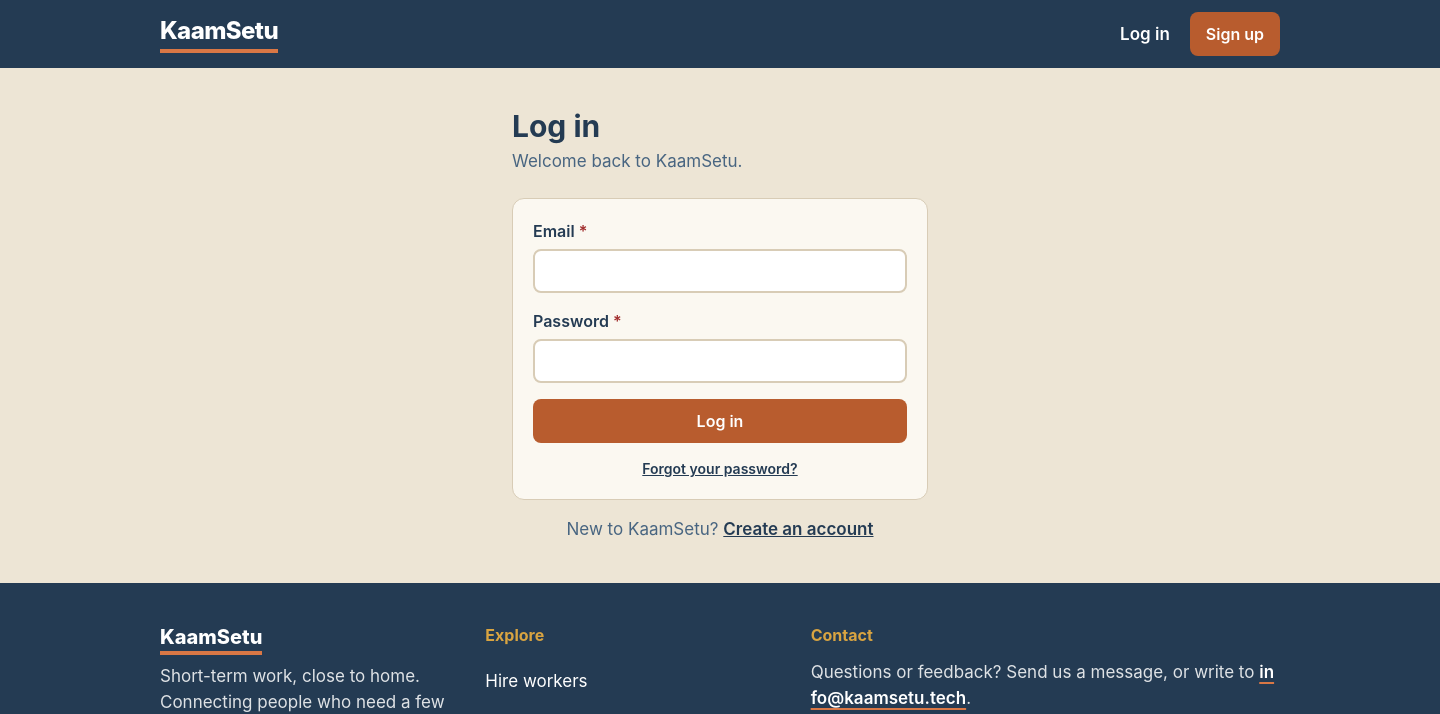
Test: login › validates before calling Supabase
This screenshot has width=1440, height=714.
Click the button "Log in".
click(720, 421)  # box [533,399,907,443]
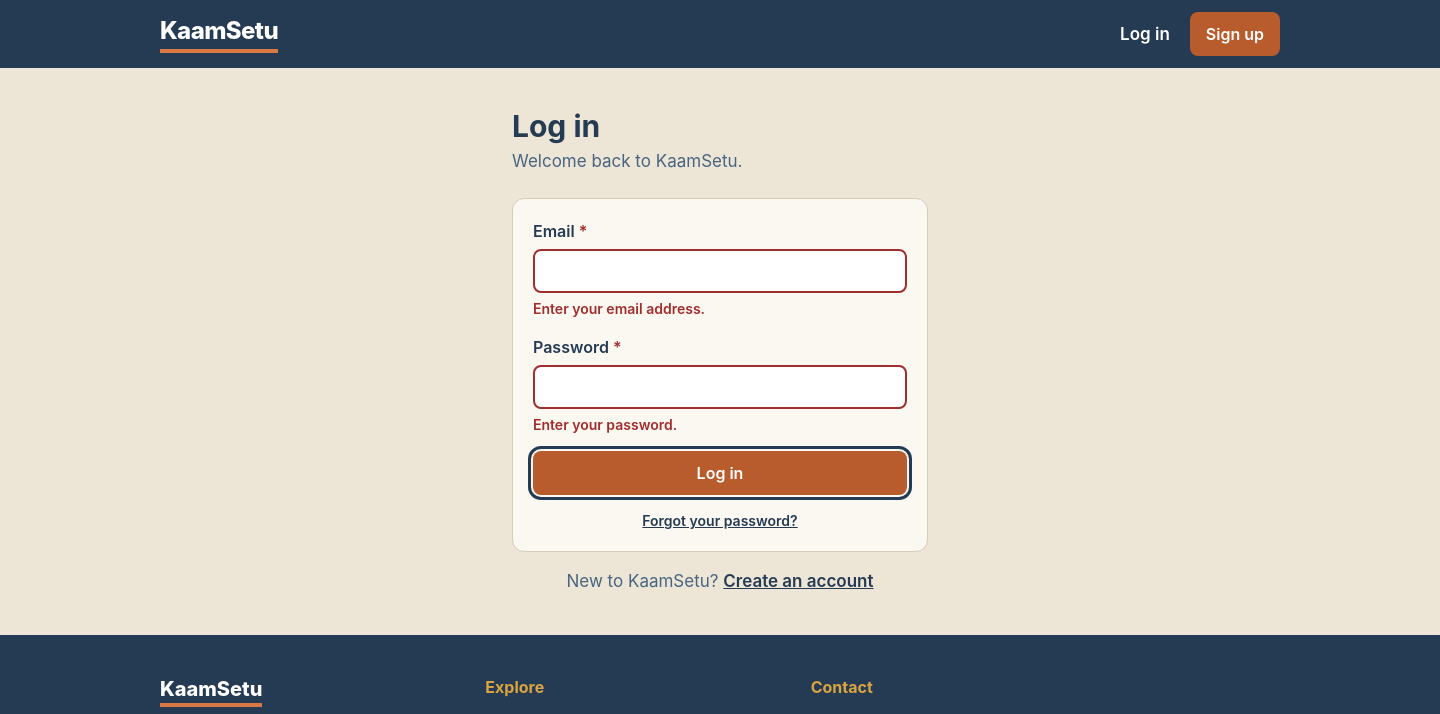
Result: the text "Enter your email address." is shown at [533,300,705,317]
Result: the text "Enter your password." is shown at [533,416,677,433]
